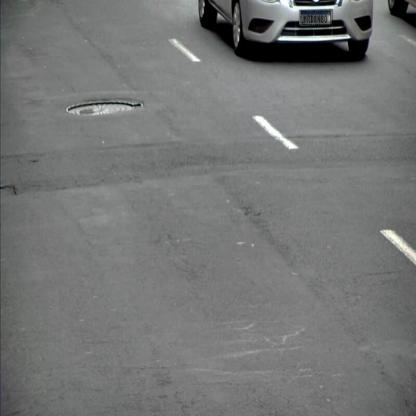PlacaM: (300, 10, 330, 25)
